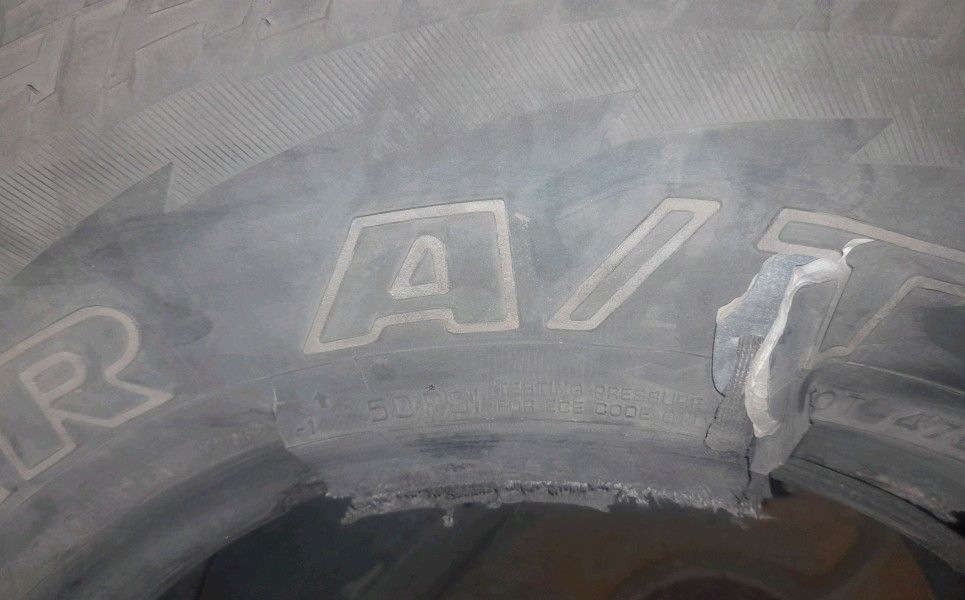bead_damage: (241, 239, 882, 536)
